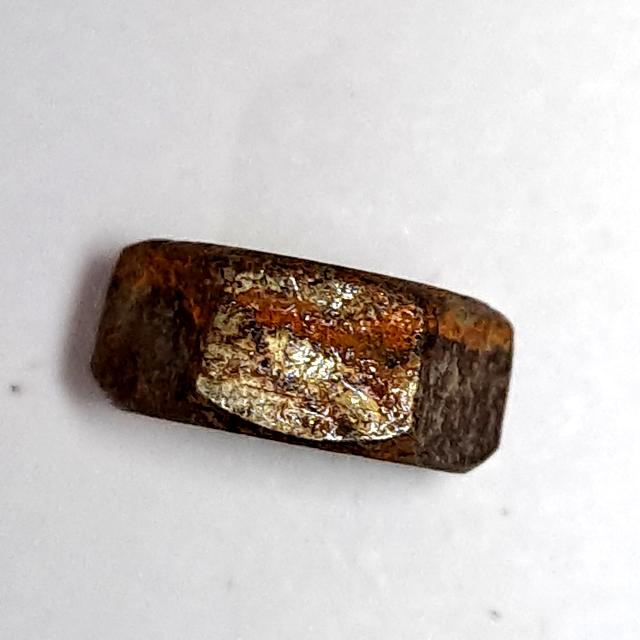Side_Rust: (70, 226, 525, 489)
